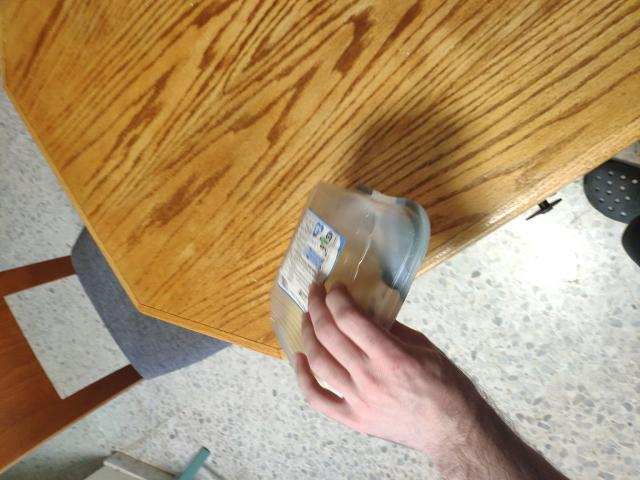cheese: (281, 204, 407, 361)
